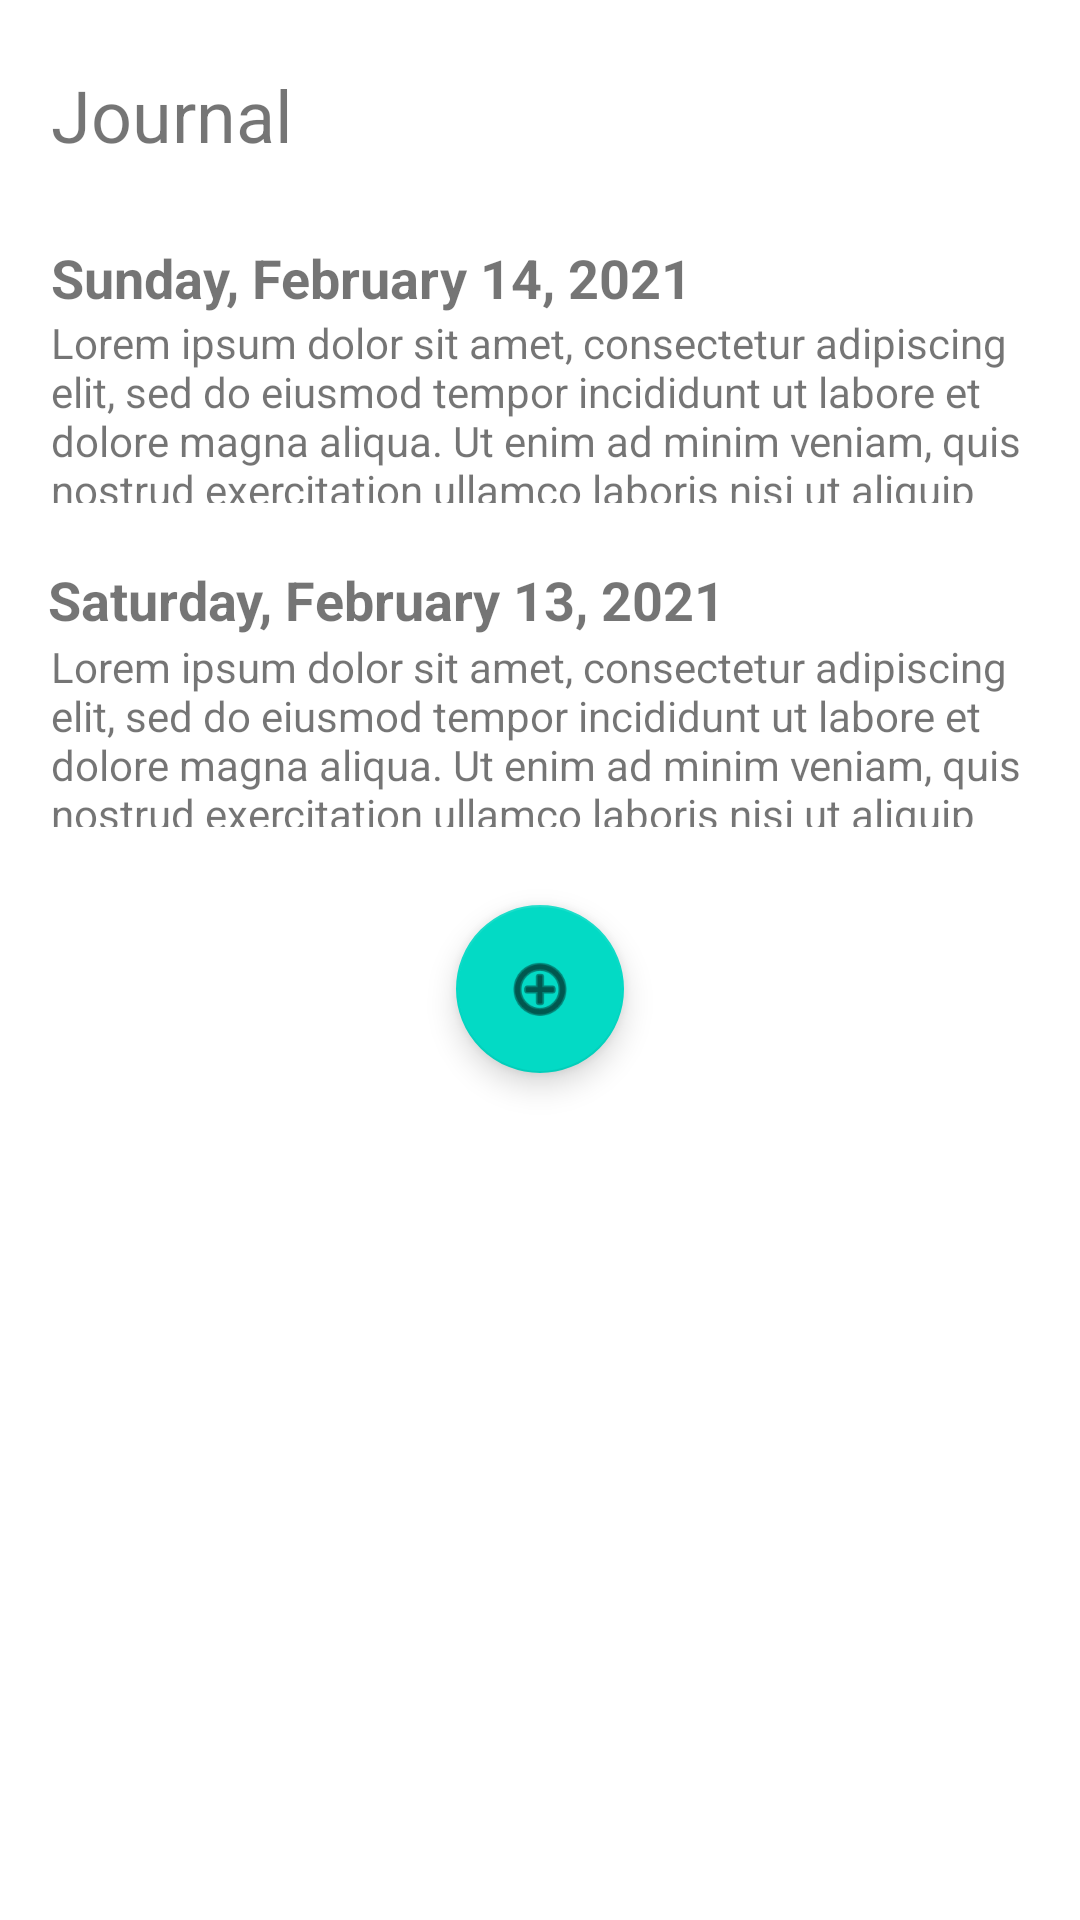

Icons on this 1080×1920 Android screen, each with the point to tap as (x=x, y=y):
add: (x=540, y=989)
